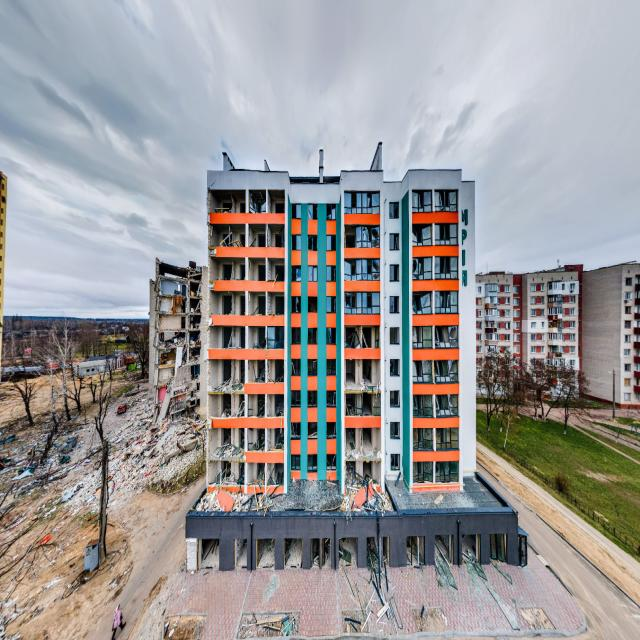building: (202, 143, 476, 504), (147, 256, 206, 425), (580, 260, 640, 408)
